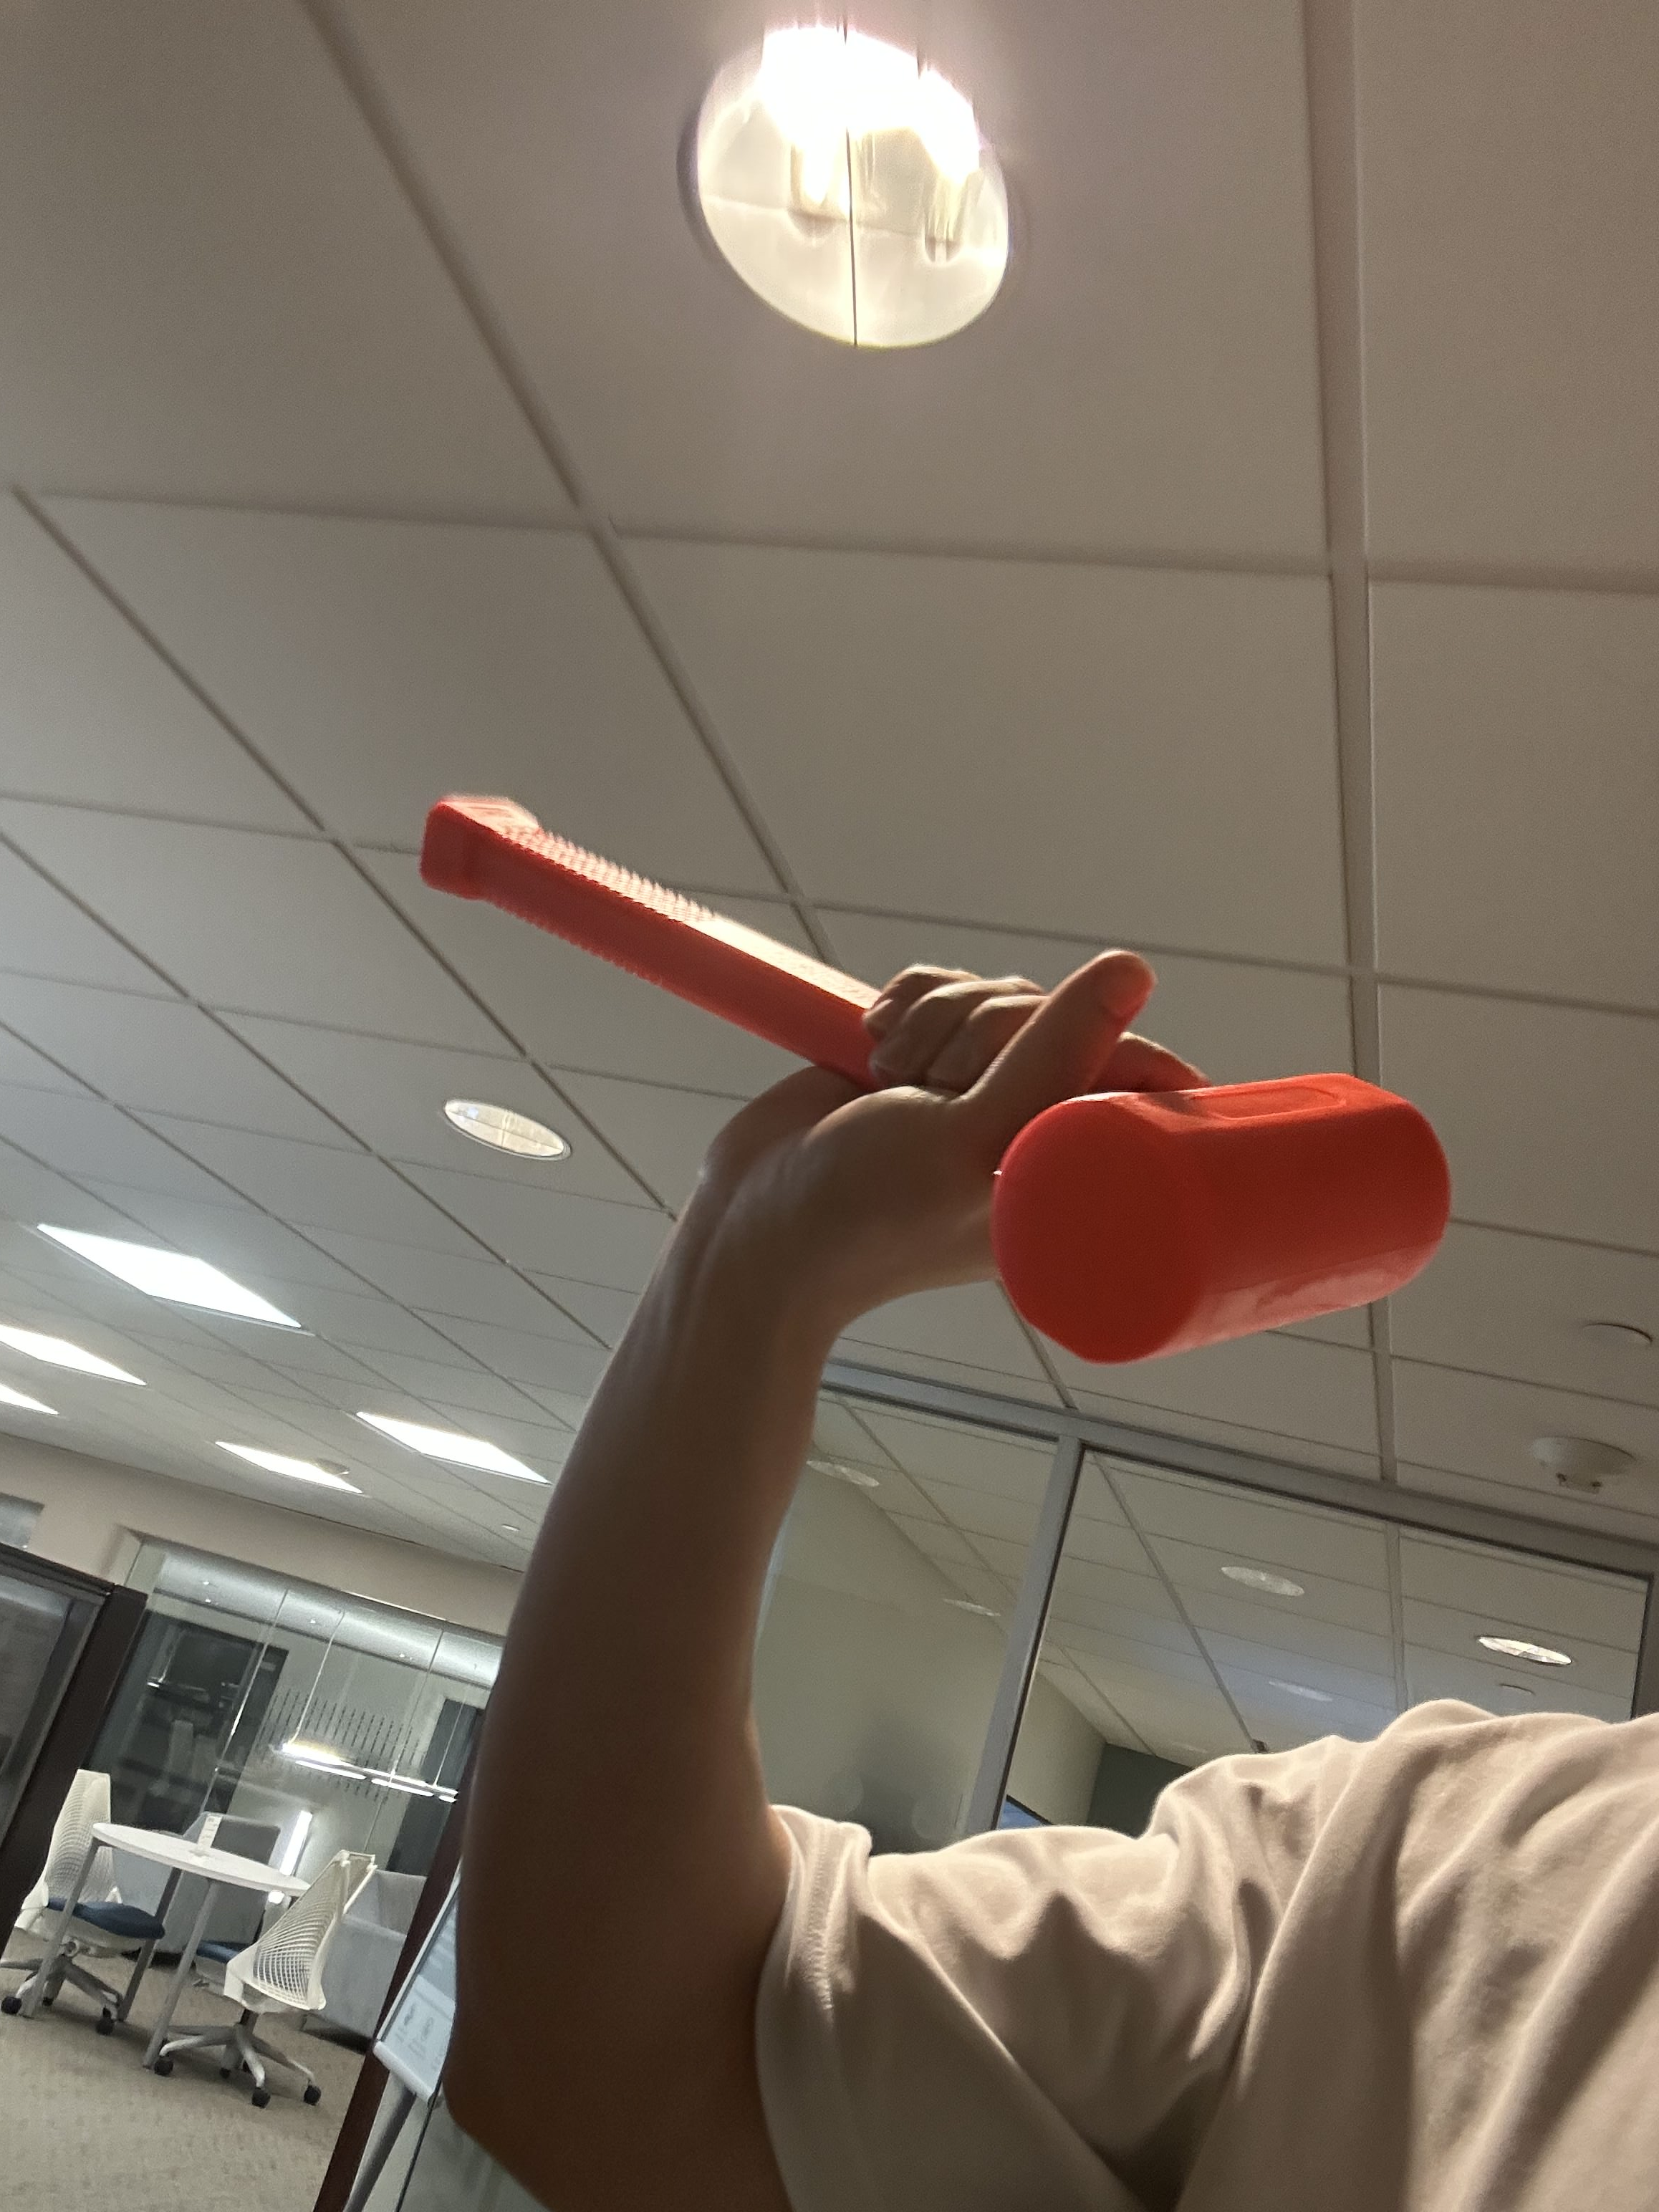Hammer: (385, 714, 1486, 1409)
